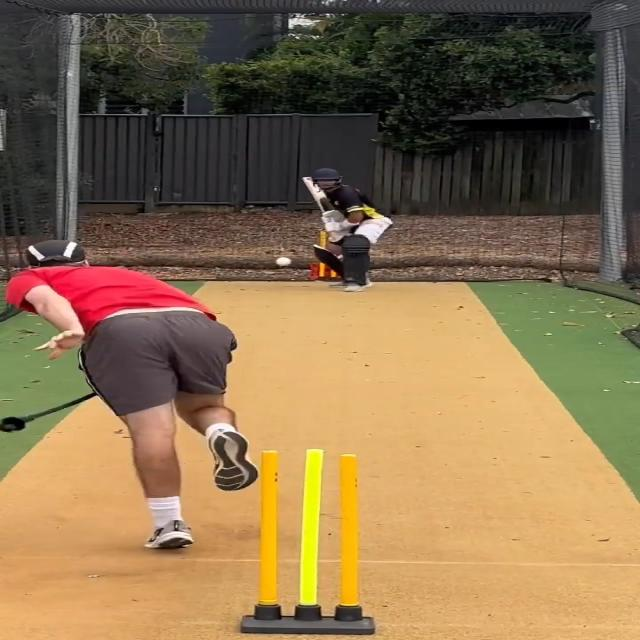ball: (275, 255, 294, 267)
stump: (240, 450, 376, 634)
